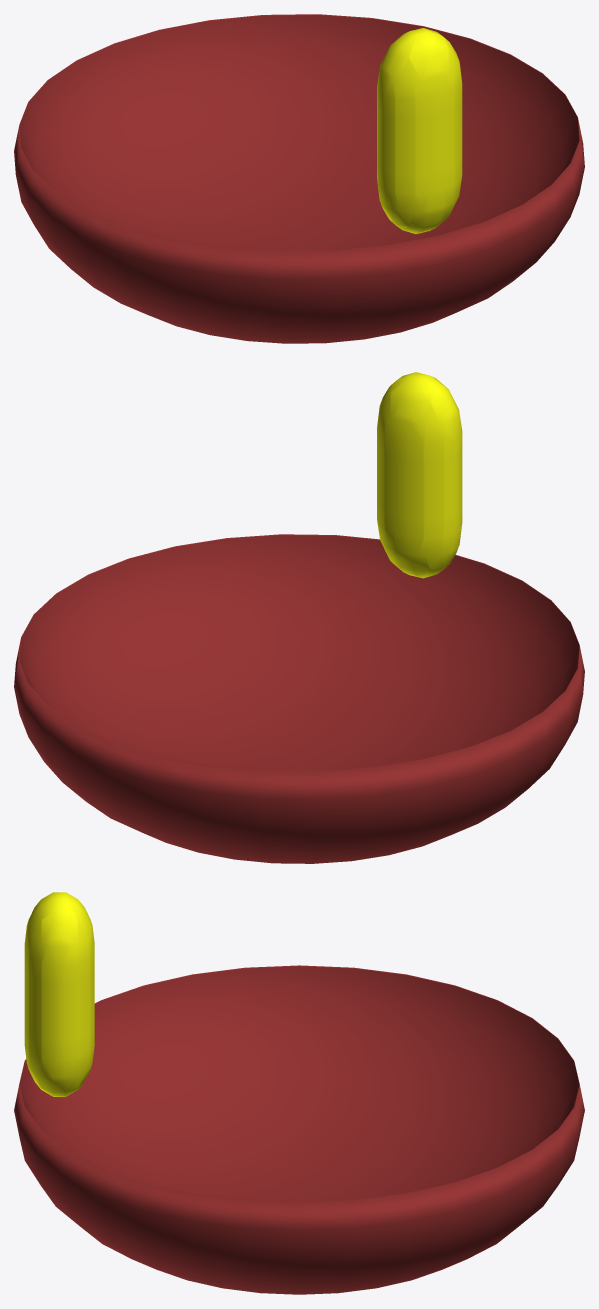
Rendered from diya.fbx.
3 renders of one model, top to bottom at view 1: azimuth 30°, elevation 25°; view 2: azimuth 150°, elevation 25°; view 3: azimuth 270°, elevation 25°, orthographic.
Parts seen in each view (by area): view 1: Sphere, Mball; view 2: Sphere, Mball; view 3: Sphere, Mball.
Part boxes in pixels (x1=…): Sphere: x1=14, y1=14, x2=584, y2=343; Mball: x1=377, y1=28, x2=462, y2=233; Sphere: x1=14, y1=534, x2=584, y2=863; Mball: x1=377, y1=372, x2=462, y2=578; Sphere: x1=14, y1=965, x2=584, y2=1294; Mball: x1=24, y1=892, x2=94, y2=1096.
Bounding box in the file's own units: 200 × 137 × 200.
